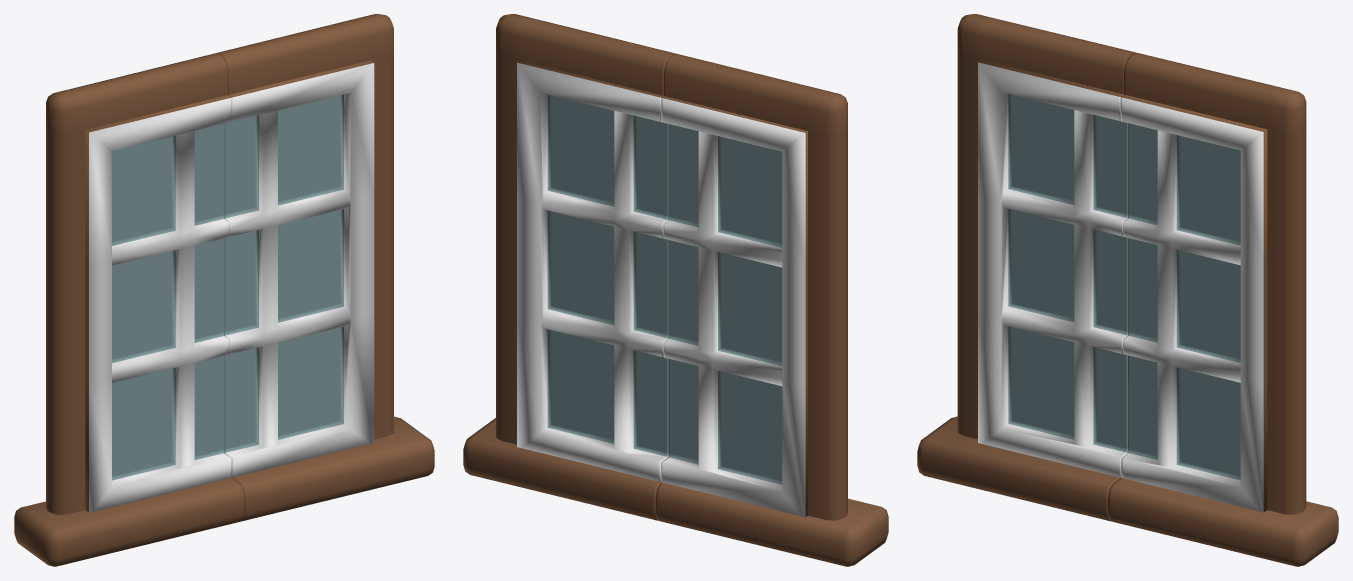
File: SM_Window_01a.fbx
3 renders of one model, left to right at view 1: azimuth 30°, elevation 25°; view 2: azimuth 150°, elevation 25°; view 3: azimuth 330°, elevation 25°, orthographic.
Visible parts, largest first — view 1: Window_02, Window_01; view 2: Window_02, Window_01; view 3: Window_01, Window_02.
Part boxes in pixels (x1,y1,x2,y2): Window_02: [14, 53, 244, 566]; Window_01: [215, 14, 434, 520]; Window_02: [655, 54, 888, 566]; Window_01: [463, 14, 676, 520]; Window_01: [1107, 53, 1338, 566]; Window_02: [917, 14, 1136, 520].
Size of the model in its own units: 24.83 by 27.67 by 4.46.
